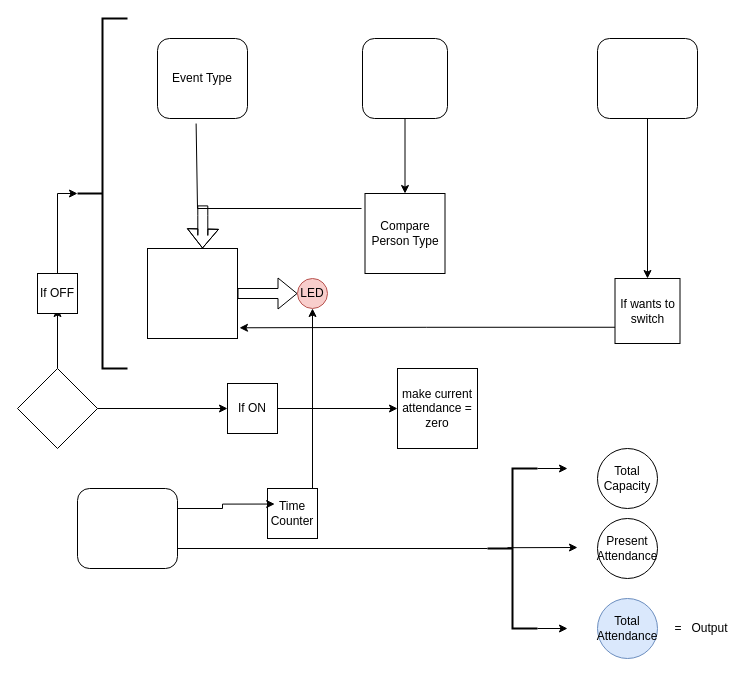
Some shapes in this 749 by 676 pixel diagram are drawn without their labels. Here are the shapes that lost their labels. From the top down, the box of each, then its label:
(362, 38, 448, 118): Person Type
(596, 38, 698, 118): Switching Data
(146, 248, 238, 338): Goes to particular event
(16, 368, 98, 448): Emergency Alarm
(76, 488, 178, 568): Particular Event
